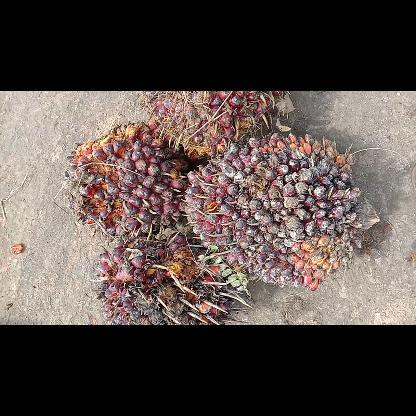Kurang masak: (182, 130, 382, 292), (135, 92, 291, 160)
TBS masak: (62, 120, 198, 244), (92, 228, 248, 324)
